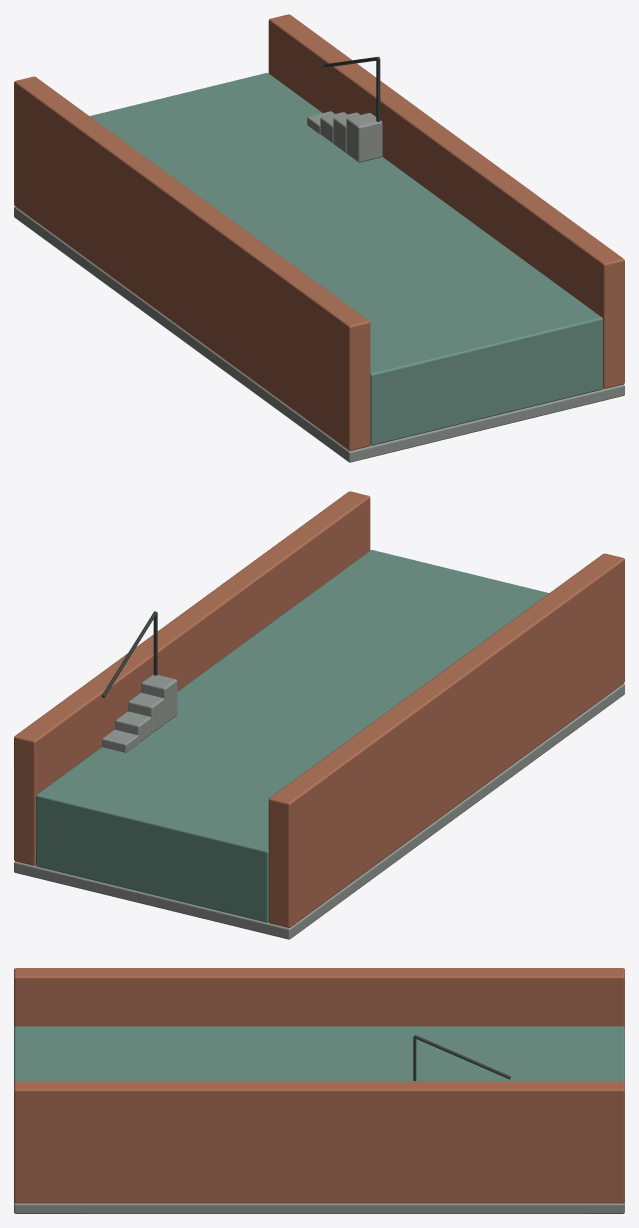
File: canal-boats-and-lock-operations-canal-boats-and-lock-o-51f4cf43__31619.glb
The picture shows the model from 3 angles, top to bottom: view 1: azimuth 30°, elevation 25°; view 2: azimuth 150°, elevation 25°; view 3: azimuth 270°, elevation 25°; orthographic projection. The views are drawn at different scales.
Parts seen in each view (by area): view 1: canal-boats-and-lock-operations-lower-pound-channel; view 2: canal-boats-and-lock-operations-lower-pound-channel; view 3: canal-boats-and-lock-operations-lower-pound-channel.
Boxes of the visible parts, x1,y1,x2,y2 form: canal-boats-and-lock-operations-lower-pound-channel: [14, 14, 624, 462]; canal-boats-and-lock-operations-lower-pound-channel: [14, 491, 624, 939]; canal-boats-and-lock-operations-lower-pound-channel: [14, 968, 624, 1213].
Bounding box in the file's own units: 3.8 × 2.42 × 8.
